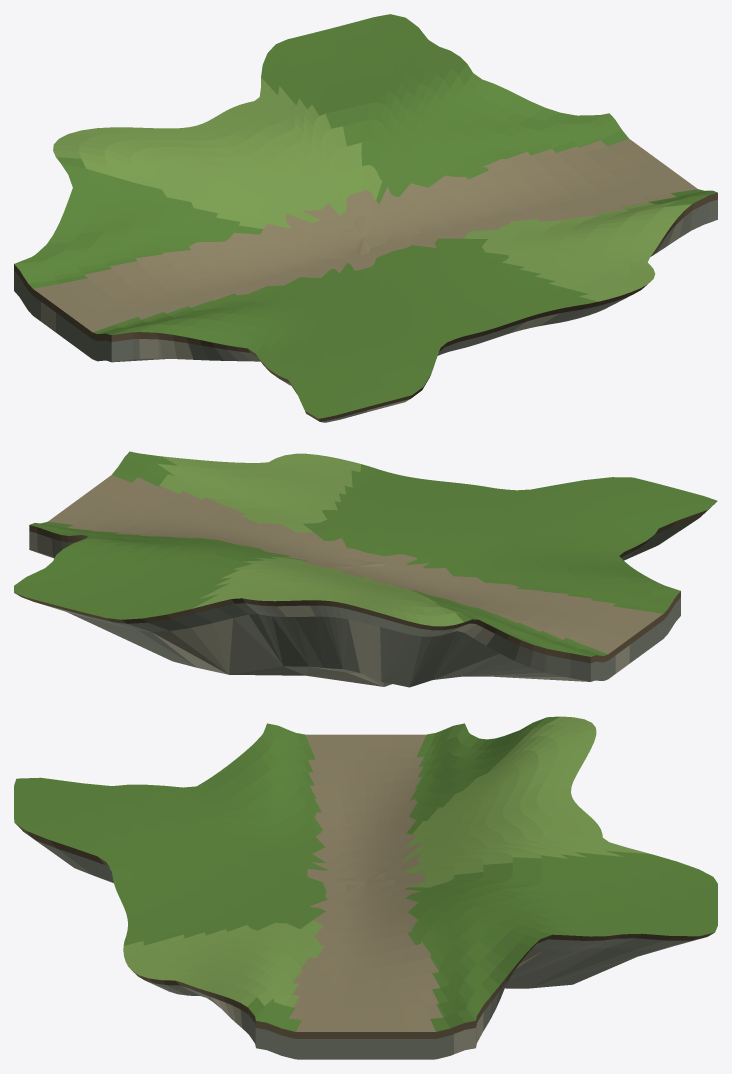
The model's file is windward_ridge_gate_structure.fbx.
3 views of the same model, one above another, from view 1: azimuth 30°, elevation 25°; view 2: azimuth 150°, elevation 25°; view 3: azimuth 270°, elevation 25° (orthographic). The views are drawn at different scales.
Visible parts, largest first — view 1: chunk_windward_ridge_gate; view 2: chunk_windward_ridge_gate; view 3: chunk_windward_ridge_gate.
Part boxes in pixels (x1,y1,x2,y2): chunk_windward_ridge_gate: (14,14,717,422); chunk_windward_ridge_gate: (14,451,717,687); chunk_windward_ridge_gate: (14,716,717,1059).
Size of the model in its own units: 256 by 76.42 by 256.
